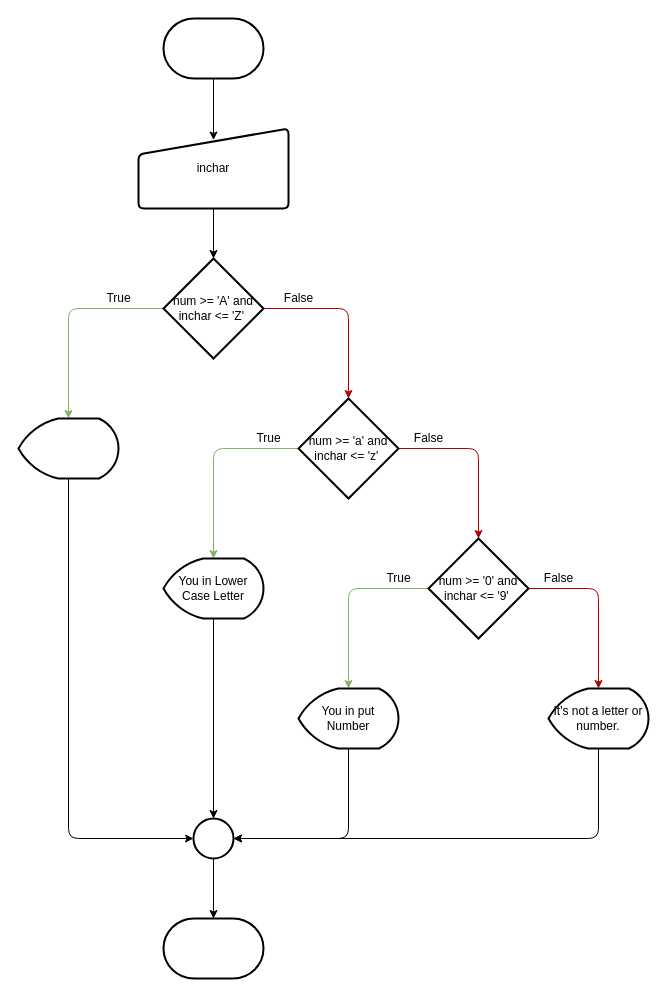
Image size: 666x996. Some labels were removed from this diagram. Each missing label, with the centre of its shape:
end: pixel 213 948
start: pixel 213 48
You in put Upper Case Letter: pixel 68 448
